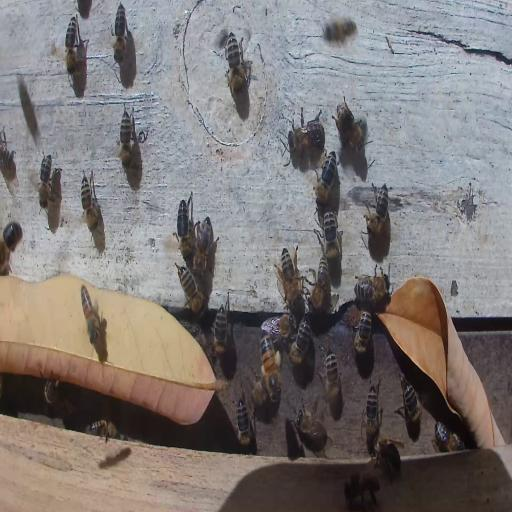nonpollenbee: (335, 101, 366, 157), (224, 36, 250, 100), (286, 116, 325, 156), (321, 348, 344, 414), (80, 169, 102, 236), (278, 245, 300, 307), (37, 148, 57, 216), (365, 182, 390, 236), (375, 436, 403, 484), (176, 264, 204, 312), (344, 474, 382, 509), (0, 220, 25, 273), (400, 378, 422, 438), (296, 405, 328, 445), (347, 306, 373, 354), (314, 150, 337, 204), (318, 209, 342, 259), (363, 381, 381, 447), (309, 259, 330, 315), (176, 192, 194, 256), (321, 14, 358, 45), (193, 217, 212, 277), (288, 319, 312, 364), (235, 396, 255, 450), (118, 106, 135, 169), (355, 272, 388, 303), (262, 312, 294, 341), (433, 424, 464, 453), (113, 4, 127, 64), (0, 139, 17, 188), (86, 418, 120, 442), (65, 16, 77, 76), (213, 304, 227, 354), (250, 378, 266, 407), (44, 378, 58, 406)
pollenbee: (79, 281, 103, 347), (259, 329, 281, 397)
